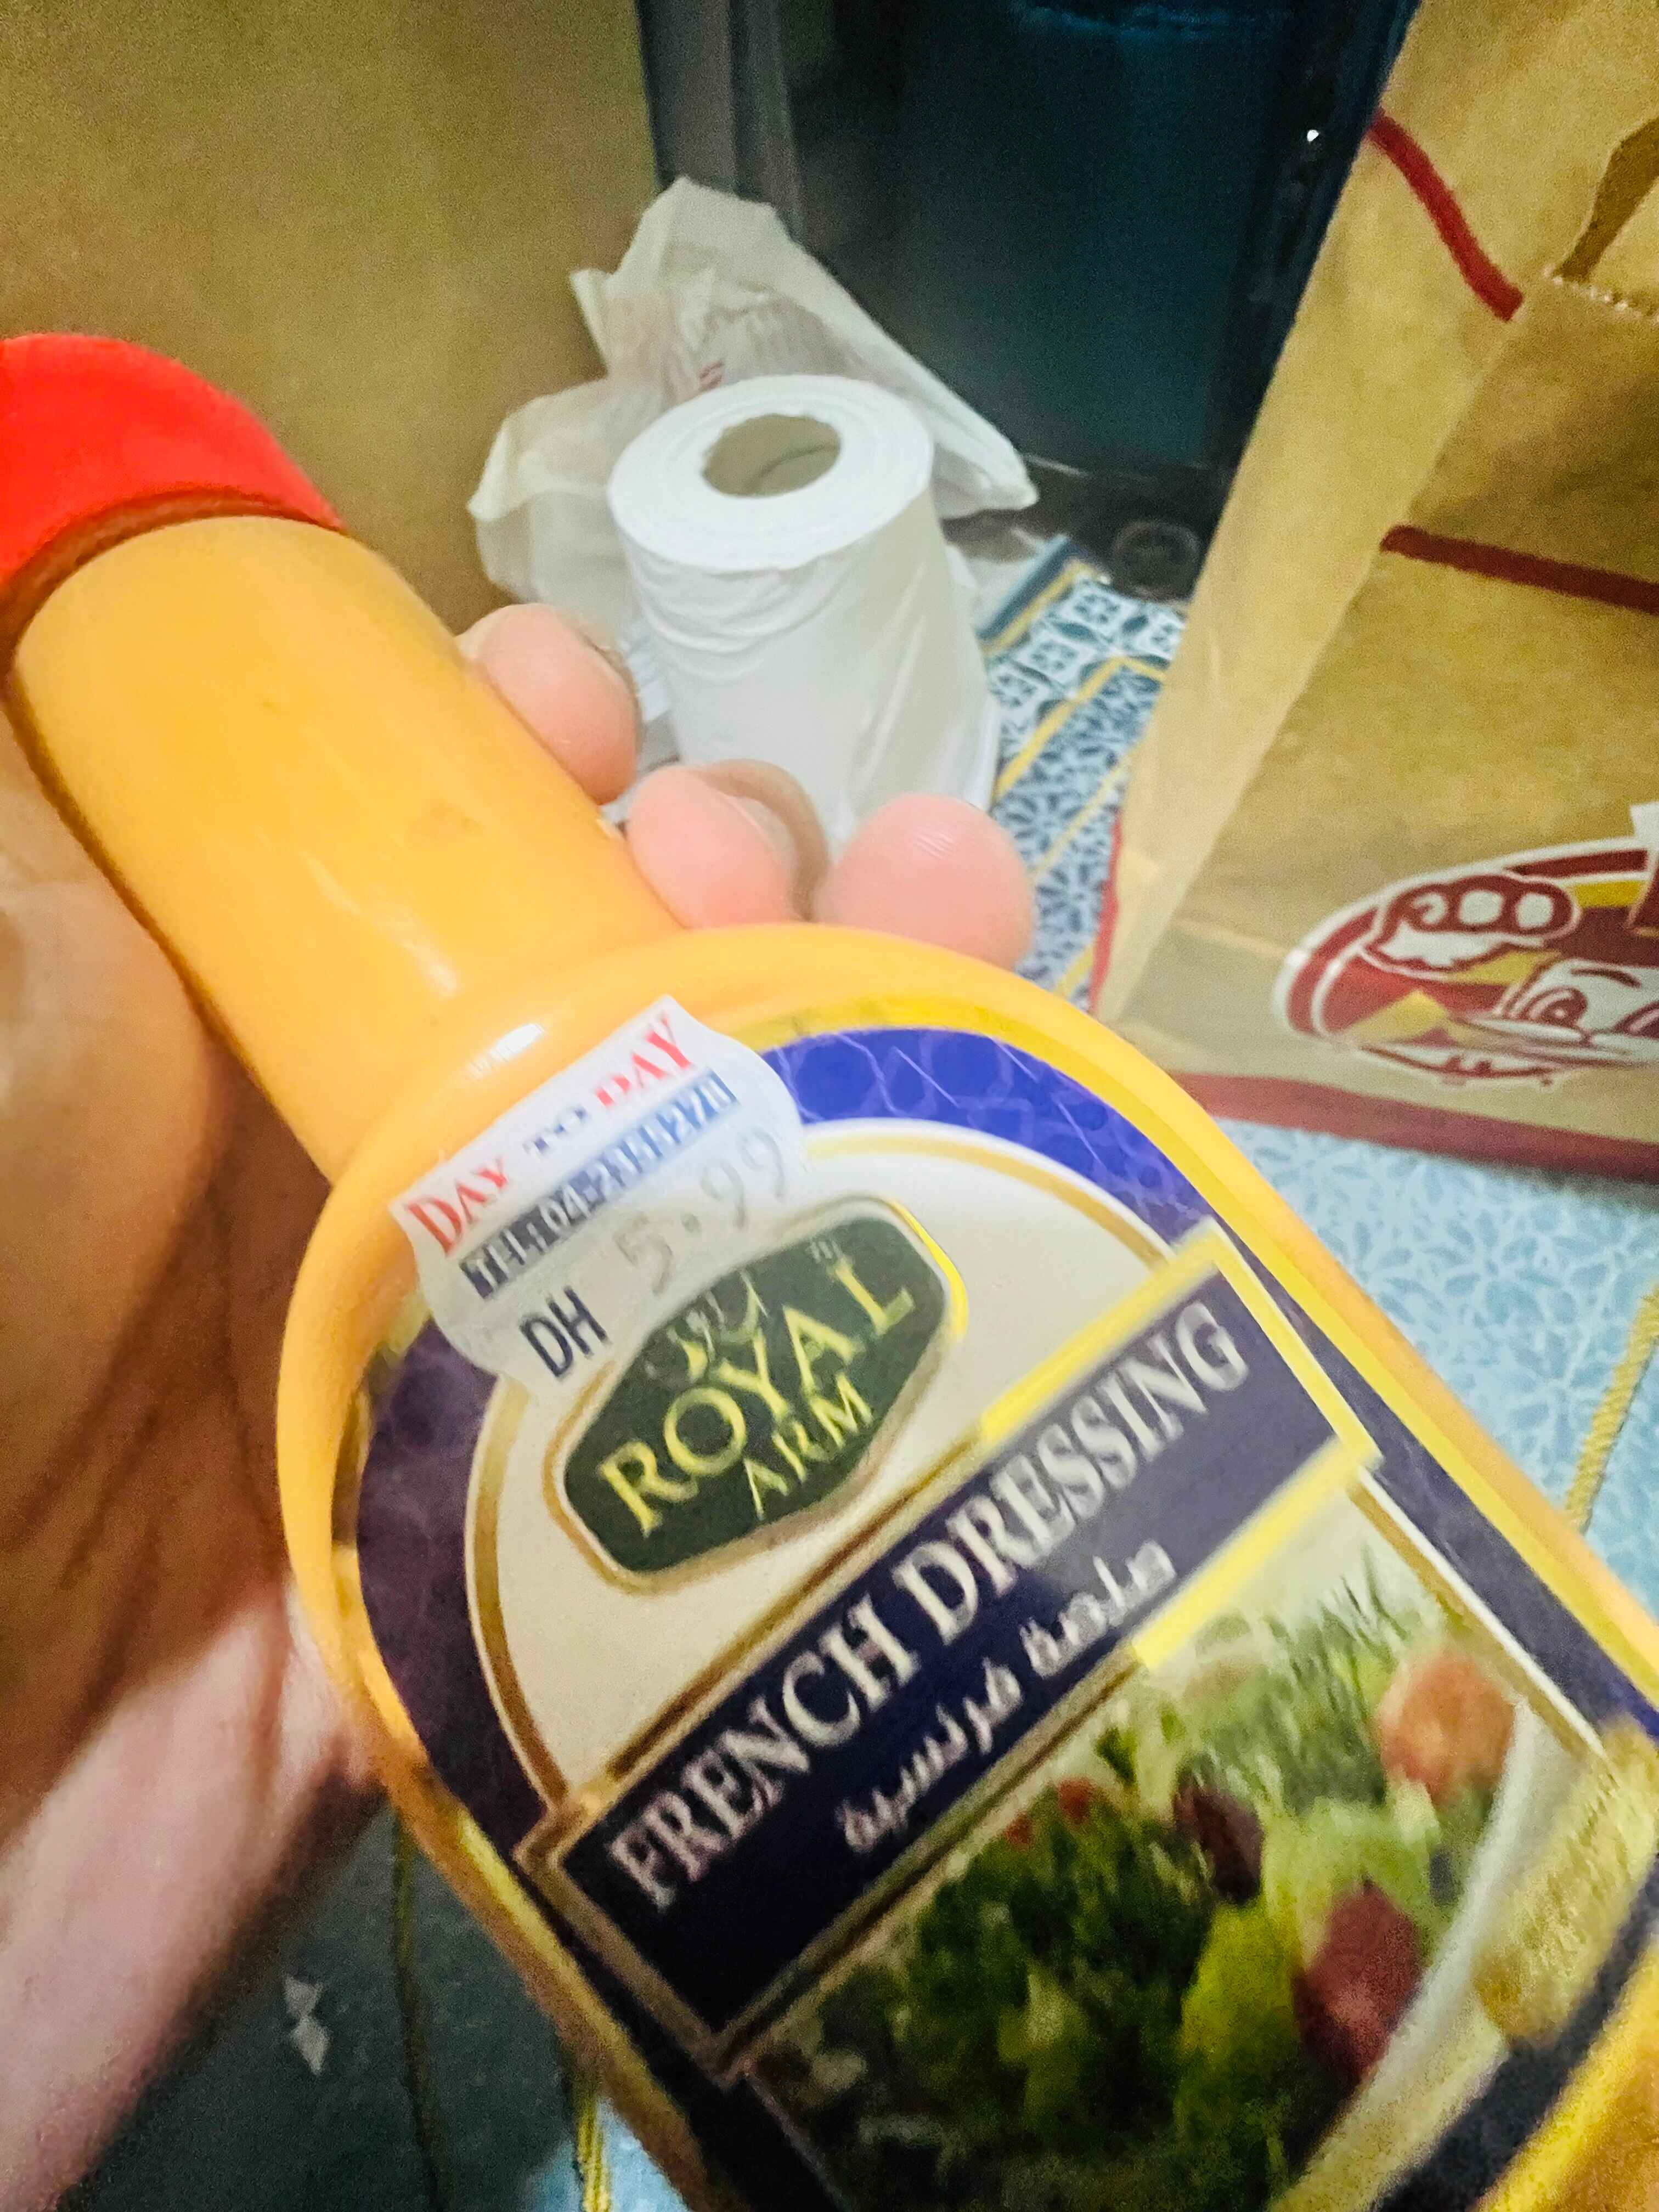PriceTagSmall: (392, 993, 807, 1379)
